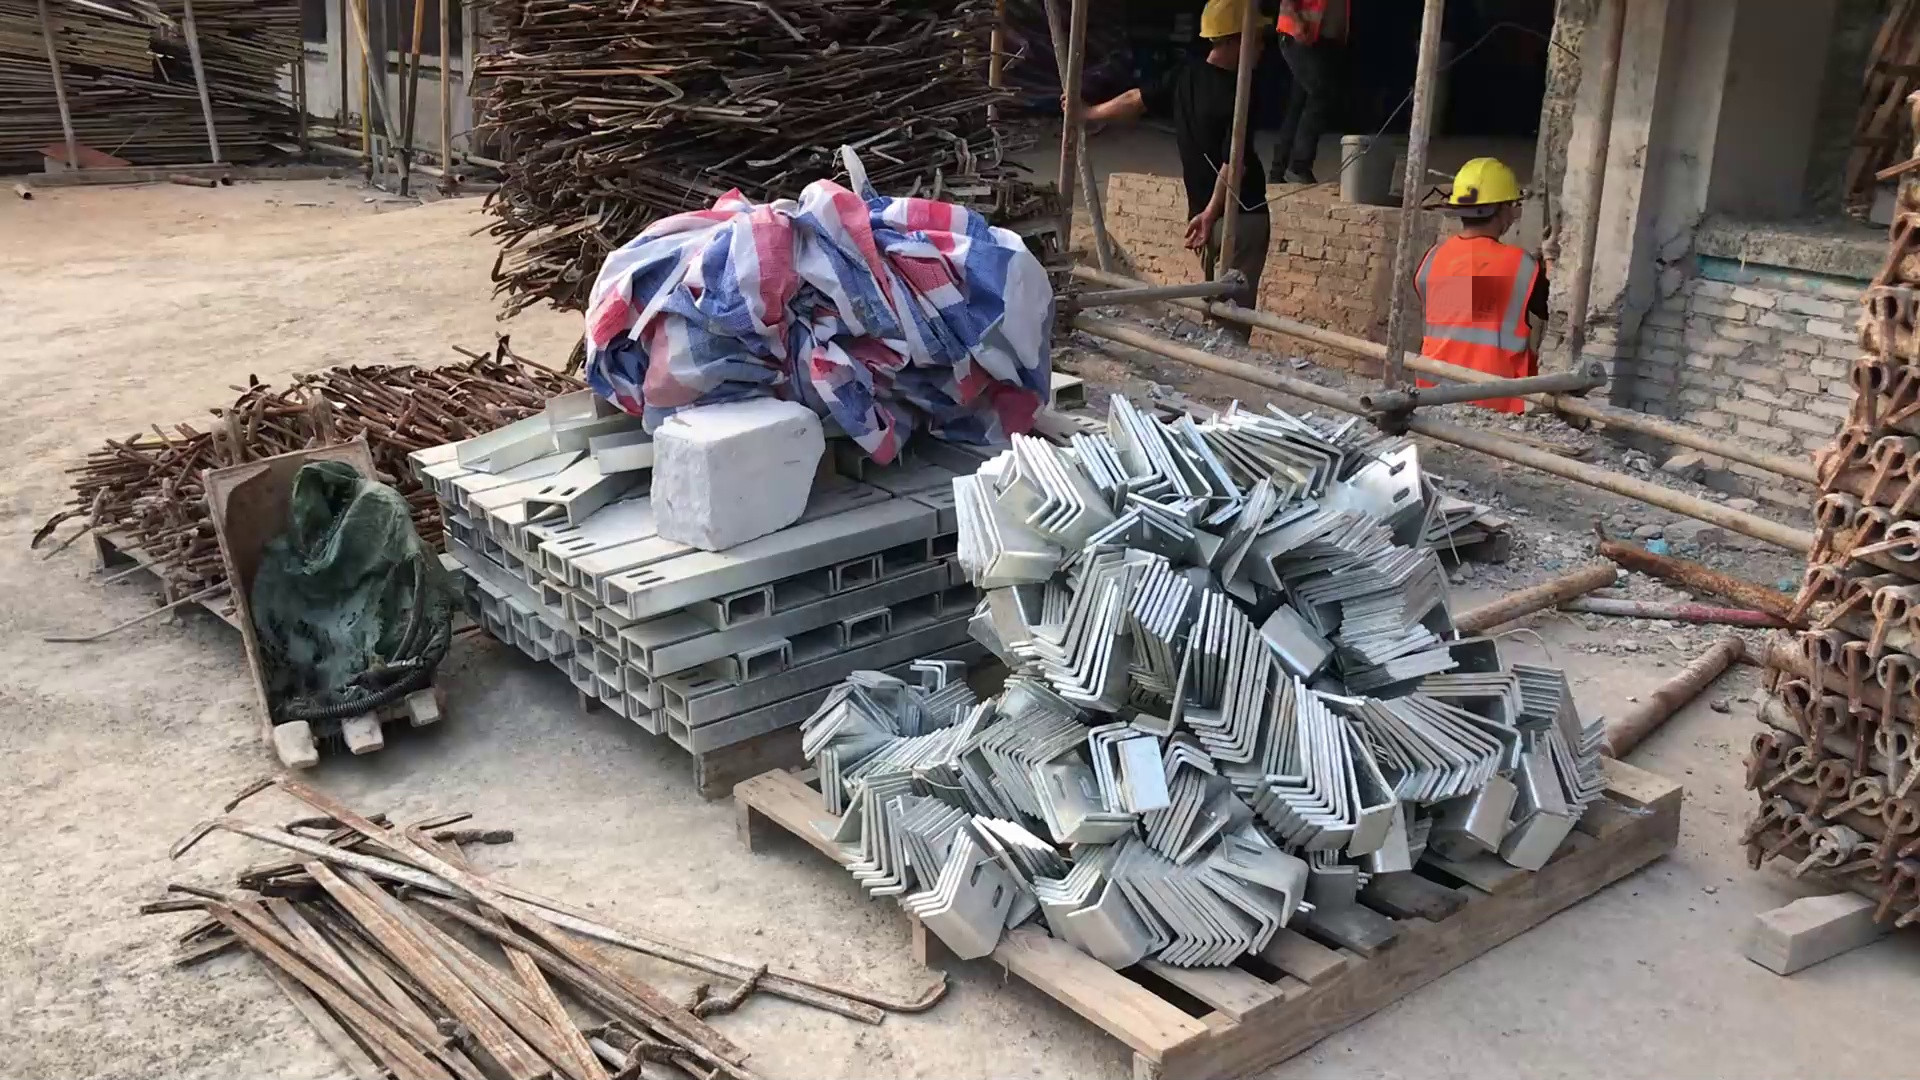helmet: (1451, 152, 1529, 208), (1195, 7, 1271, 43)
person: (1112, 1, 1281, 313), (1421, 152, 1541, 408)
rebar: (484, 1, 1053, 305), (108, 324, 562, 486)
vest: (1419, 227, 1552, 413), (1288, 1, 1360, 56)
